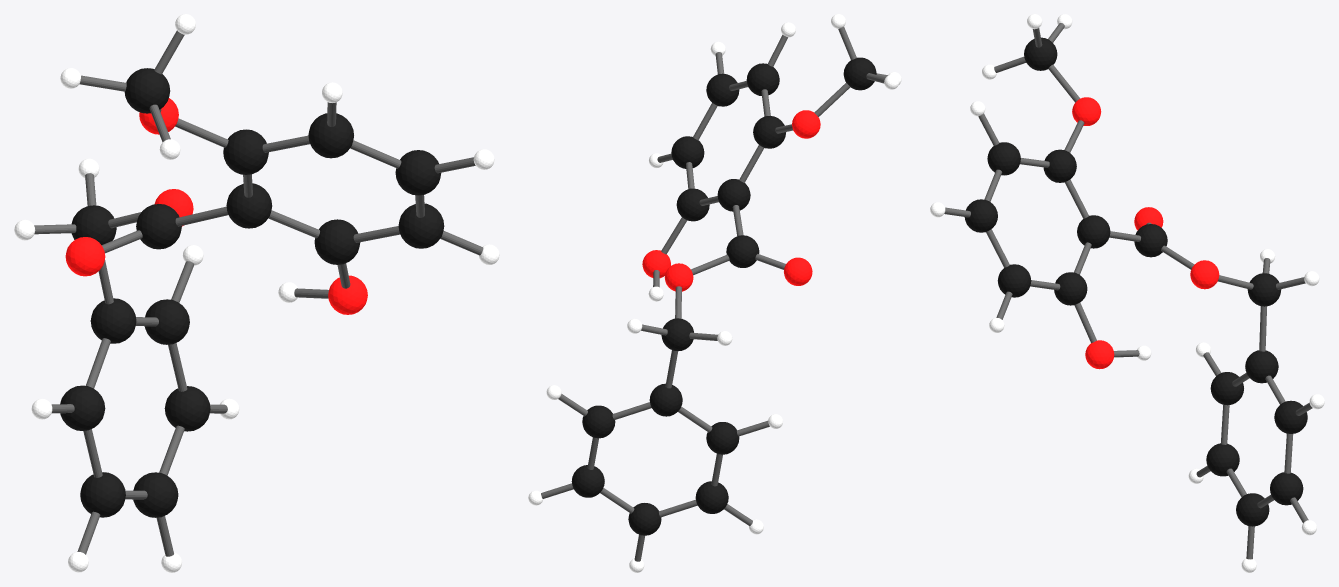
File: molecule.glb
The picture shows the model from 3 angles, left to right: view 1: azimuth 30°, elevation 25°; view 2: azimuth 150°, elevation 25°; view 3: azimuth 270°, elevation 25°; orthographic projection. The views are drawn at different scales.
Visible parts, largest first — view 1: geometry_2, geometry_15, geometry_13, geometry_17, geometry_4, geometry_6, geometry_9, geometry_0, geometry_18, geometry_16, geometry_3, geometry_8 (+7 smaller); view 2: geometry_9, geometry_16, geometry_18, geometry_14, geometry_13, geometry_15, geometry_17, geometry_3, geometry_5, geometry_8, geometry_6, geometry_4 (+7 smaller); view 3: geometry_5, geometry_8, geometry_3, geometry_2, geometry_4, geometry_6, geometry_15, geometry_13, geometry_17, geometry_12, geometry_9, geometry_16 (+6 smaller).
Boxes of the visible parts, x1,y1,x2,y2 form: geometry_2: (223, 129, 268, 174); geometry_15: (80, 472, 125, 517); geometry_13: (90, 298, 136, 343); geometry_17: (164, 386, 210, 431); geometry_4: (395, 150, 441, 195); geometry_6: (314, 219, 360, 264); geometry_9: (136, 204, 181, 249); geometry_0: (124, 68, 170, 113); geometry_18: (144, 299, 189, 344); geometry_16: (133, 472, 178, 517); geometry_3: (308, 113, 353, 158); geometry_8: (226, 183, 272, 228); geometry_9: (726, 235, 759, 267); geometry_16: (628, 503, 661, 535); geometry_18: (582, 405, 615, 438); geometry_14: (706, 422, 739, 454); geometry_13: (649, 383, 682, 416); geometry_15: (695, 481, 728, 513); geometry_17: (571, 465, 604, 497); geometry_3: (746, 63, 779, 95); geometry_5: (671, 136, 704, 168); geometry_8: (717, 179, 750, 211); geometry_6: (676, 188, 709, 221); geometry_4: (706, 73, 739, 106); geometry_5: (997, 264, 1031, 297); geometry_8: (1077, 215, 1110, 248); geometry_3: (987, 142, 1020, 175); geometry_2: (1043, 149, 1076, 182); geometry_4: (964, 199, 997, 232); geometry_6: (1054, 272, 1087, 305); geometry_15: (1206, 443, 1239, 476); geometry_13: (1245, 350, 1278, 383); geometry_17: (1270, 472, 1303, 505); geometry_12: (1247, 273, 1281, 306); geometry_9: (1134, 224, 1167, 257); geometry_16: (1236, 493, 1269, 526).
Size of the model in its own units: 0.1506 by 0.257 by 0.1802.
